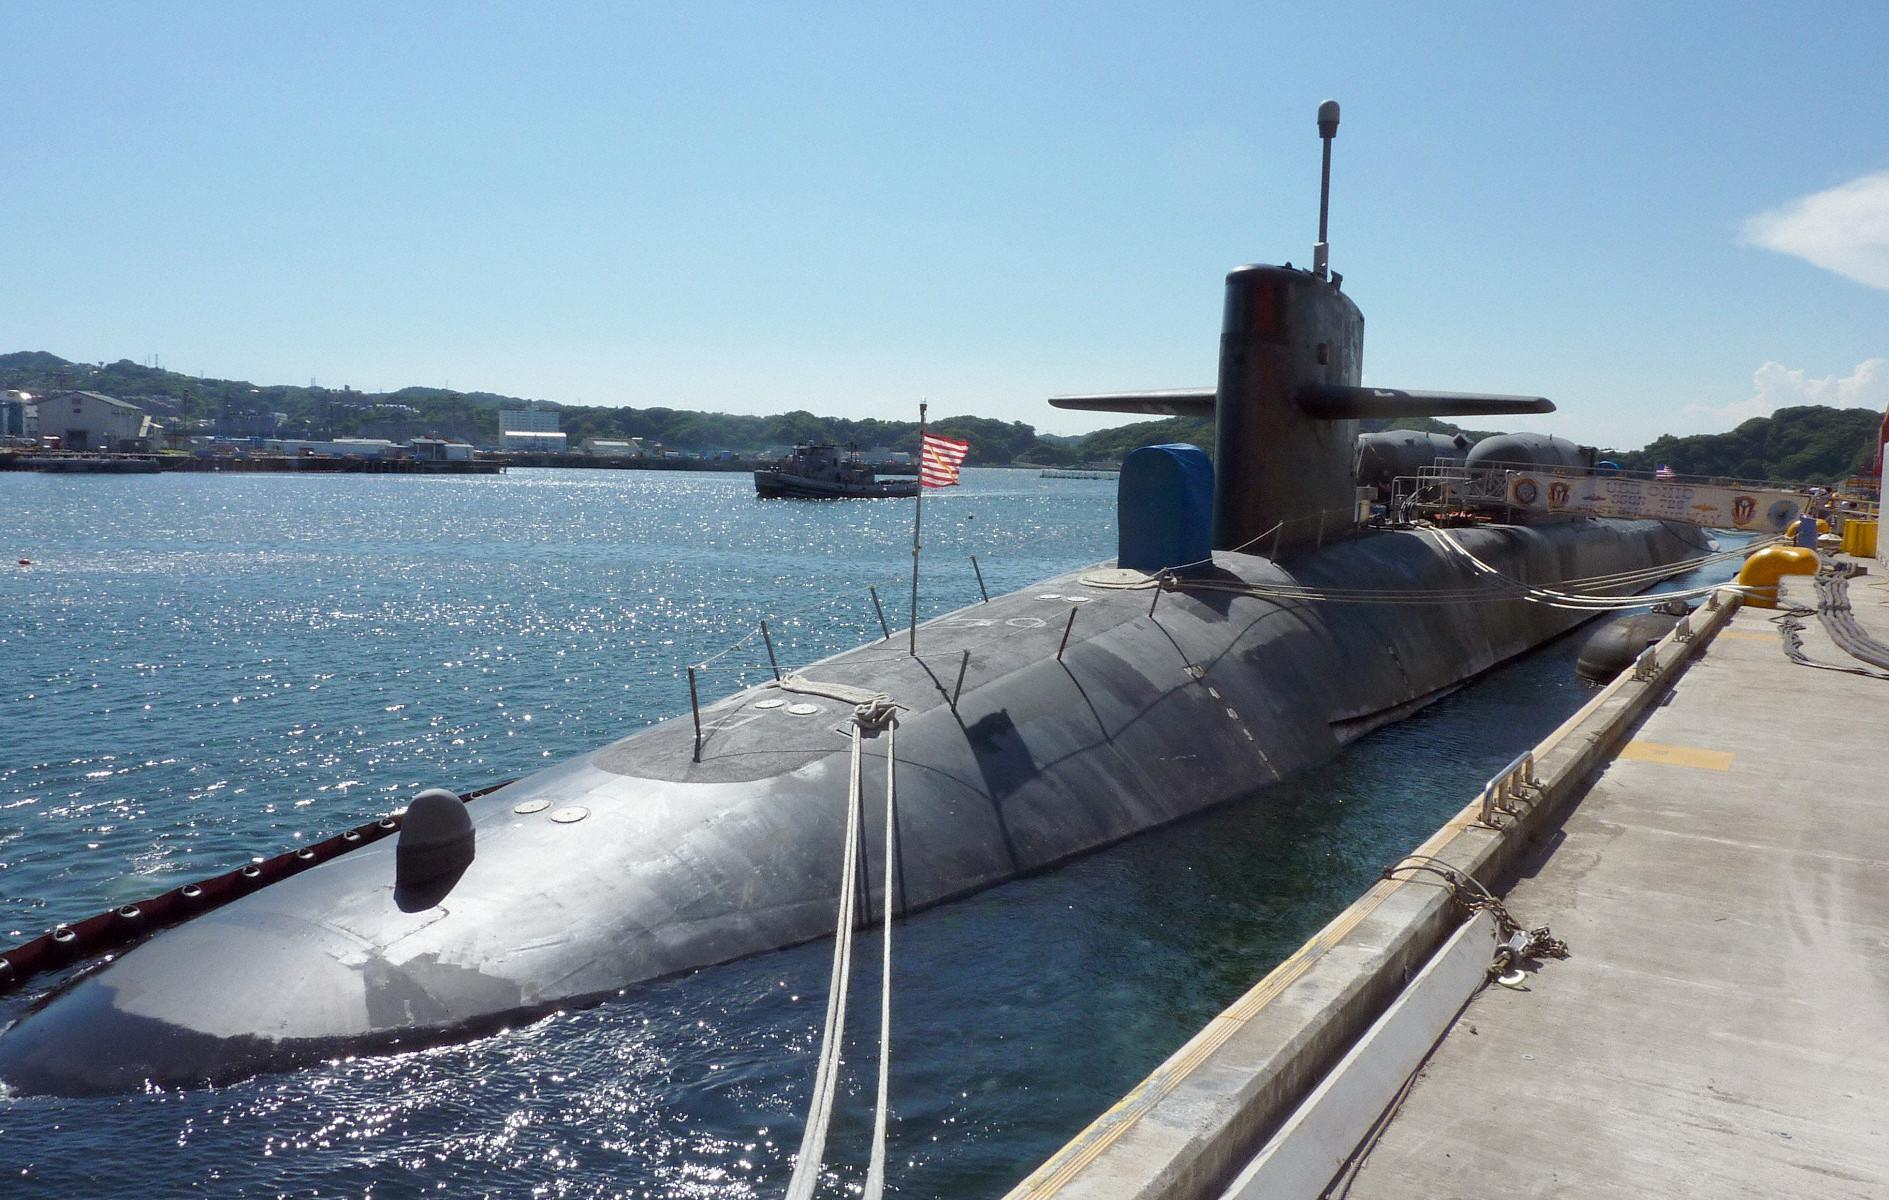Submarine: (0, 176, 1857, 1196)
